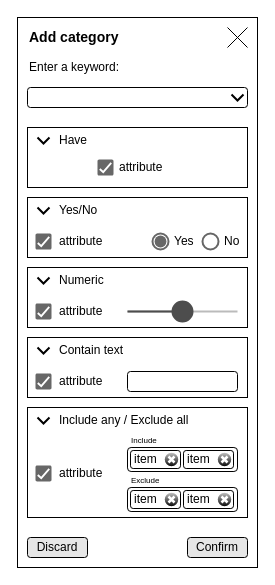
Some shapes in this 275 by 585 pixel diagram are drawn without their labels. Each missing label, with the centre of its shape:
"content" goes at pixel 182 381.
"museum" goes at pixel 137 97.
